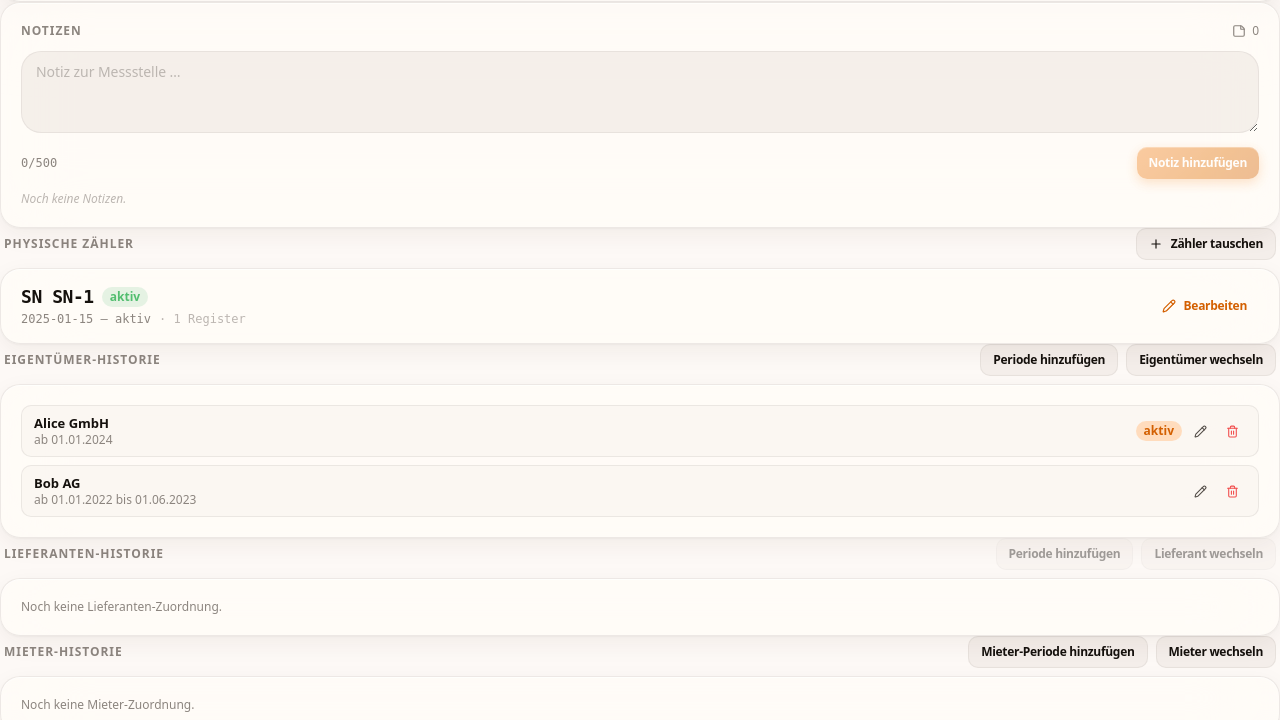
MeasuringPointDetailPage Eigentümer-Historie › zeigt einen 422-Validierungsfehler des Backends im Formular an
(page scrolled)
Click the button "Periode hinzufügen" in the row of "Eigentümer-Historie": coordinates (1049, 360) [980,344,1118,376]
(page scrolled)
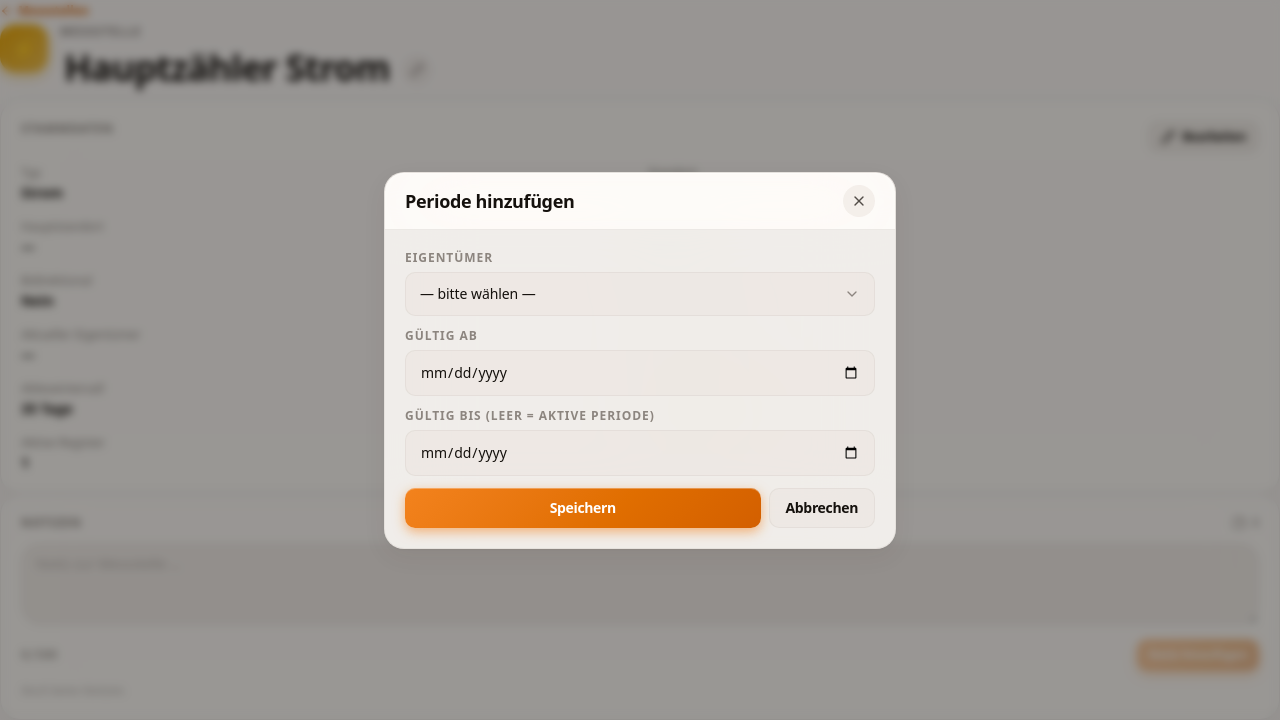
Click the button "— bitte wählen —": coordinates (478, 293) [405,272,875,316]
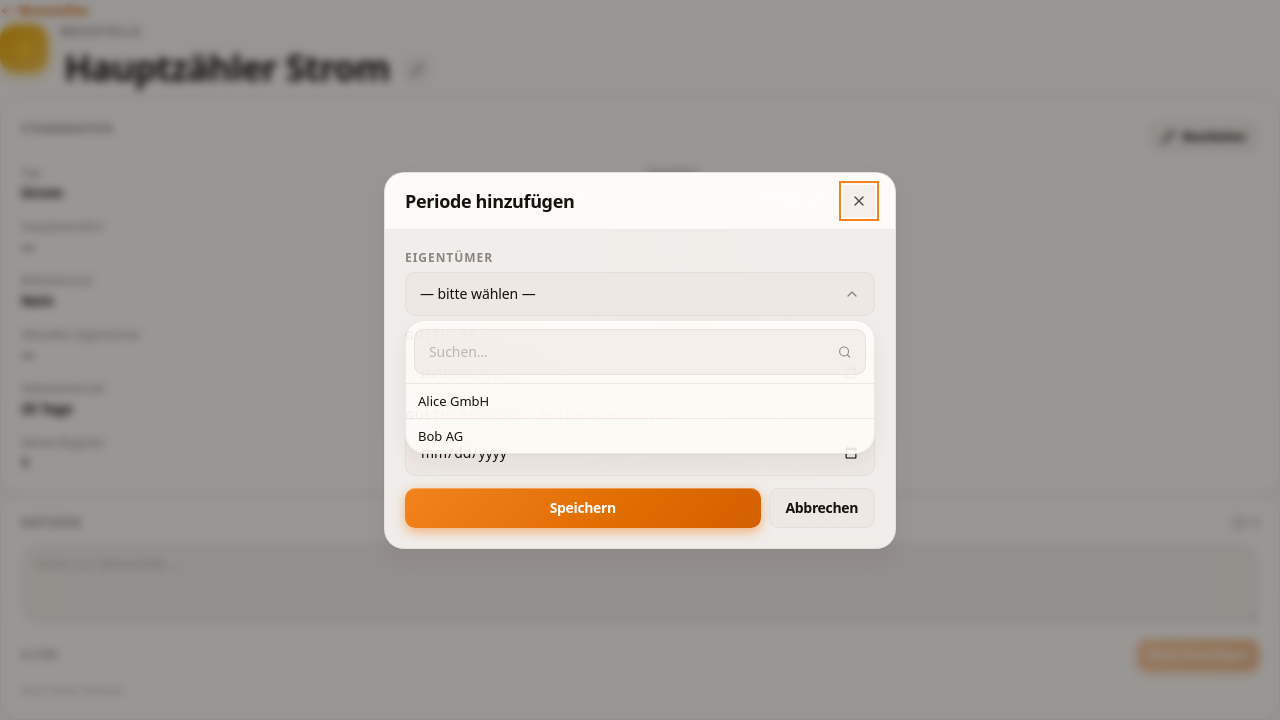
Click the button "Alice GmbH": coordinates (454, 400) [406,384,874,418]
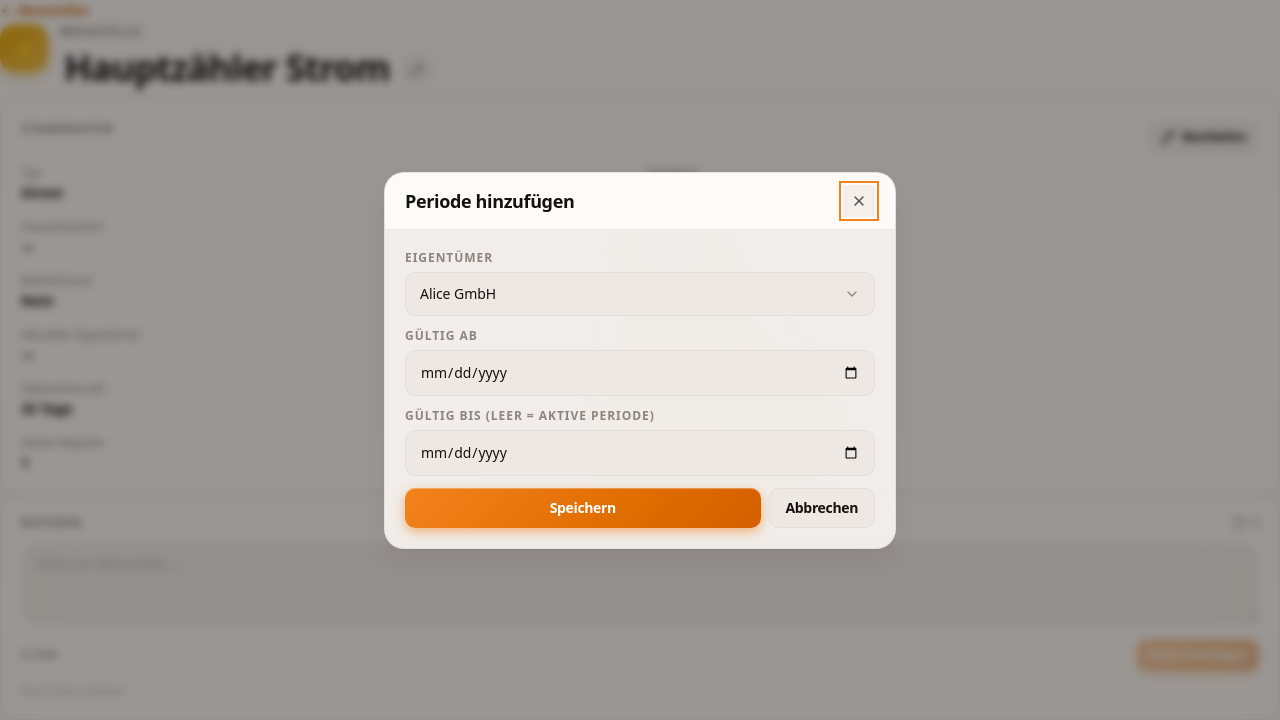
In the date field labelled "Gültig ab": coordinates (640, 372) [420,350,860,394], type "2024-06-01"
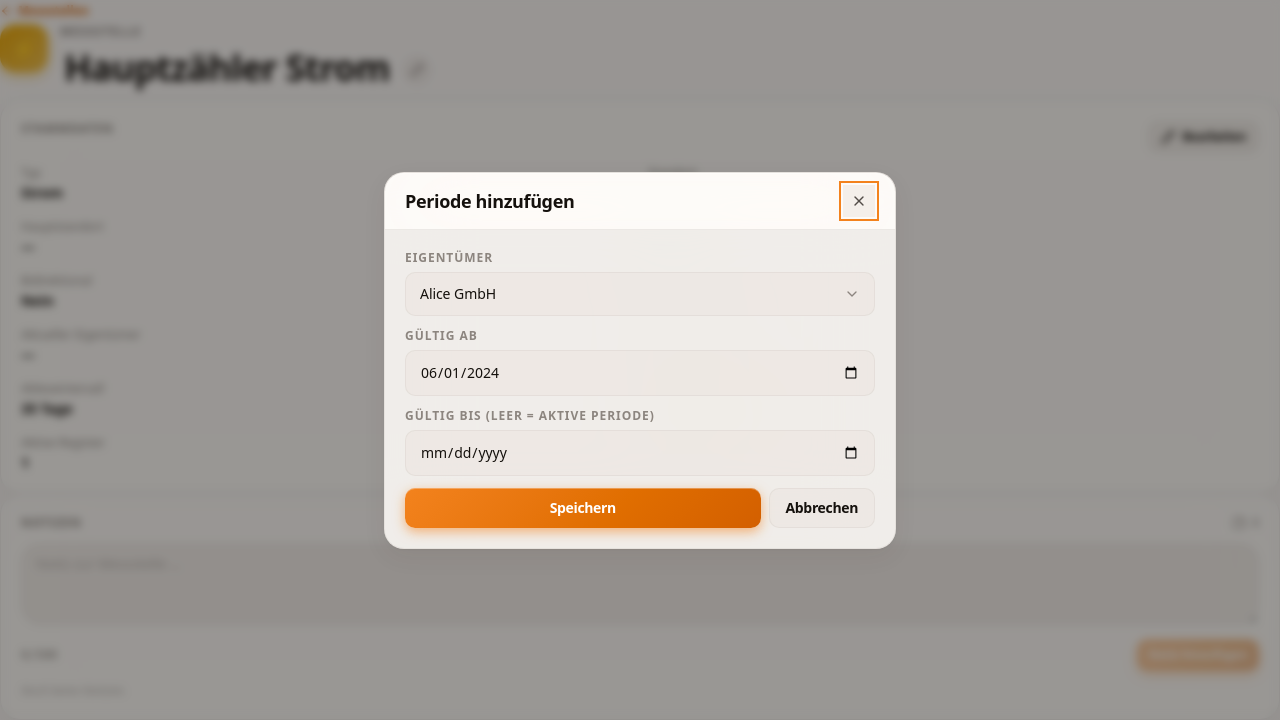
Click the button "Speichern": coordinates (583, 508) [405,488,760,528]
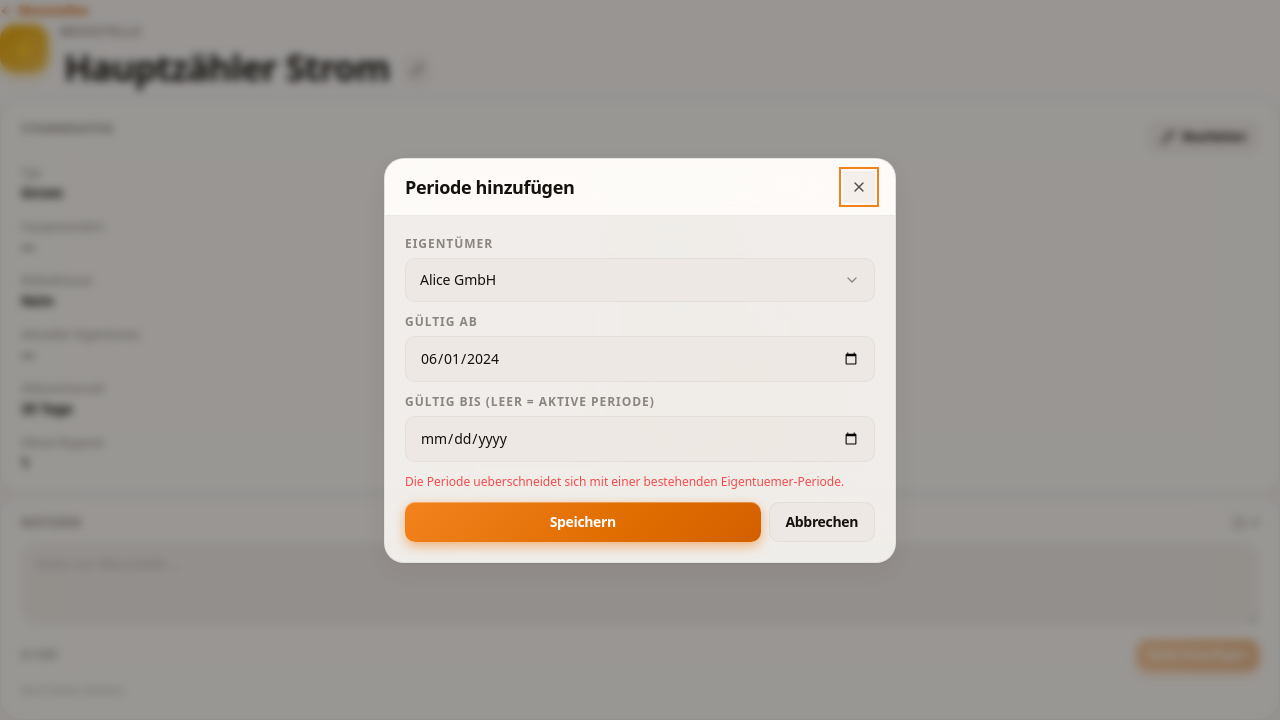
Now the text "ueberschneidet sich mit einer bestehenden" is shown, box [405,472,844,490]
